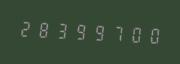eight: (35, 17, 52, 42)
nine: (89, 19, 106, 44), (71, 19, 88, 43)
seven: (107, 20, 124, 45)
three: (53, 18, 70, 42)
two: (17, 16, 34, 41)
zero: (125, 21, 142, 46), (143, 22, 160, 47)
